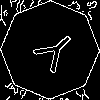Y: (25, 25, 81, 81)
